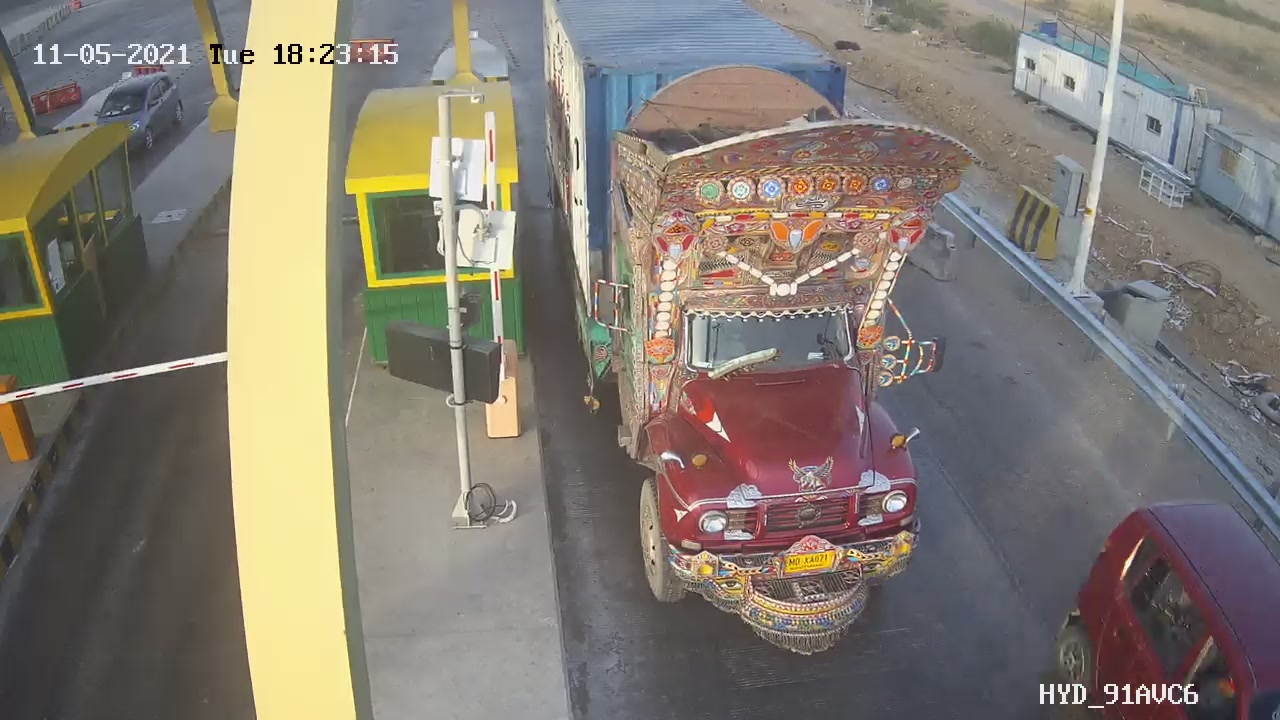F5: (542, 1, 937, 648)
